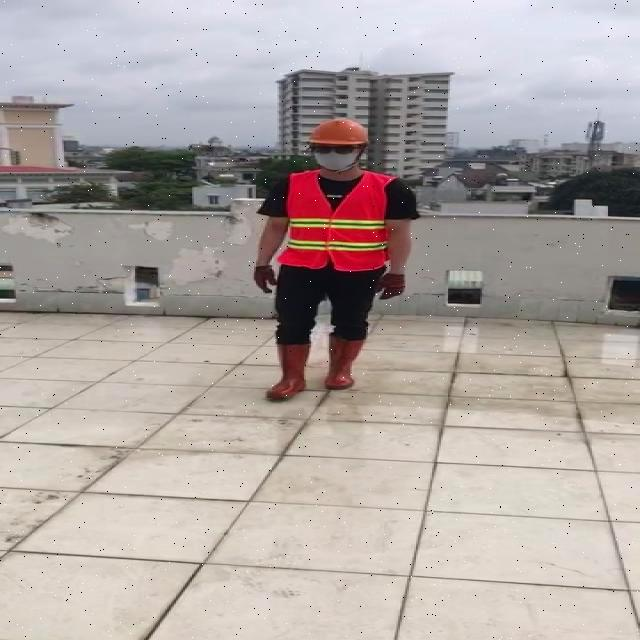Hard_hat: (307, 117, 373, 154)
Vest: (283, 167, 393, 273)
